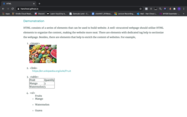

The dashboard page shown, as its layout file describes it:
{"tool":"powerbi","page":{"name":"Query 2","canvas":[1280,720],"ordinal":3},"visuals":[{"type":"textbox","box":[10.5,0,1173,34.9],"z":0},{"type":"hundredPercentStackedBarChart","title":"% Distribution of Gender by Occupation","fields":{"Y":["Sum(Adult Income.Counts)"],"Category":["Adult Income.Occupation.Occupation"],"Series":["Adult Income.Gender.Gender"]},"box":[10.5,34.9,638.3,684.8],"z":1000},{"type":"textbox","box":[648.7,18.6,535.9,684.8],"z":2000}]}

Visuals, with their boxes on the page's 1280x720 design canvas (x1, y1, x2, y2). These are canvas units, not pixel positions in the 187x117 screenshot, which may show the page scaled, cropped or inside an application window:
textbox: 10 0 1184 35
"% Distribution of Gender by Occupation" hundredPercentStackedBarChart: 10 35 649 720
textbox: 649 19 1185 703
